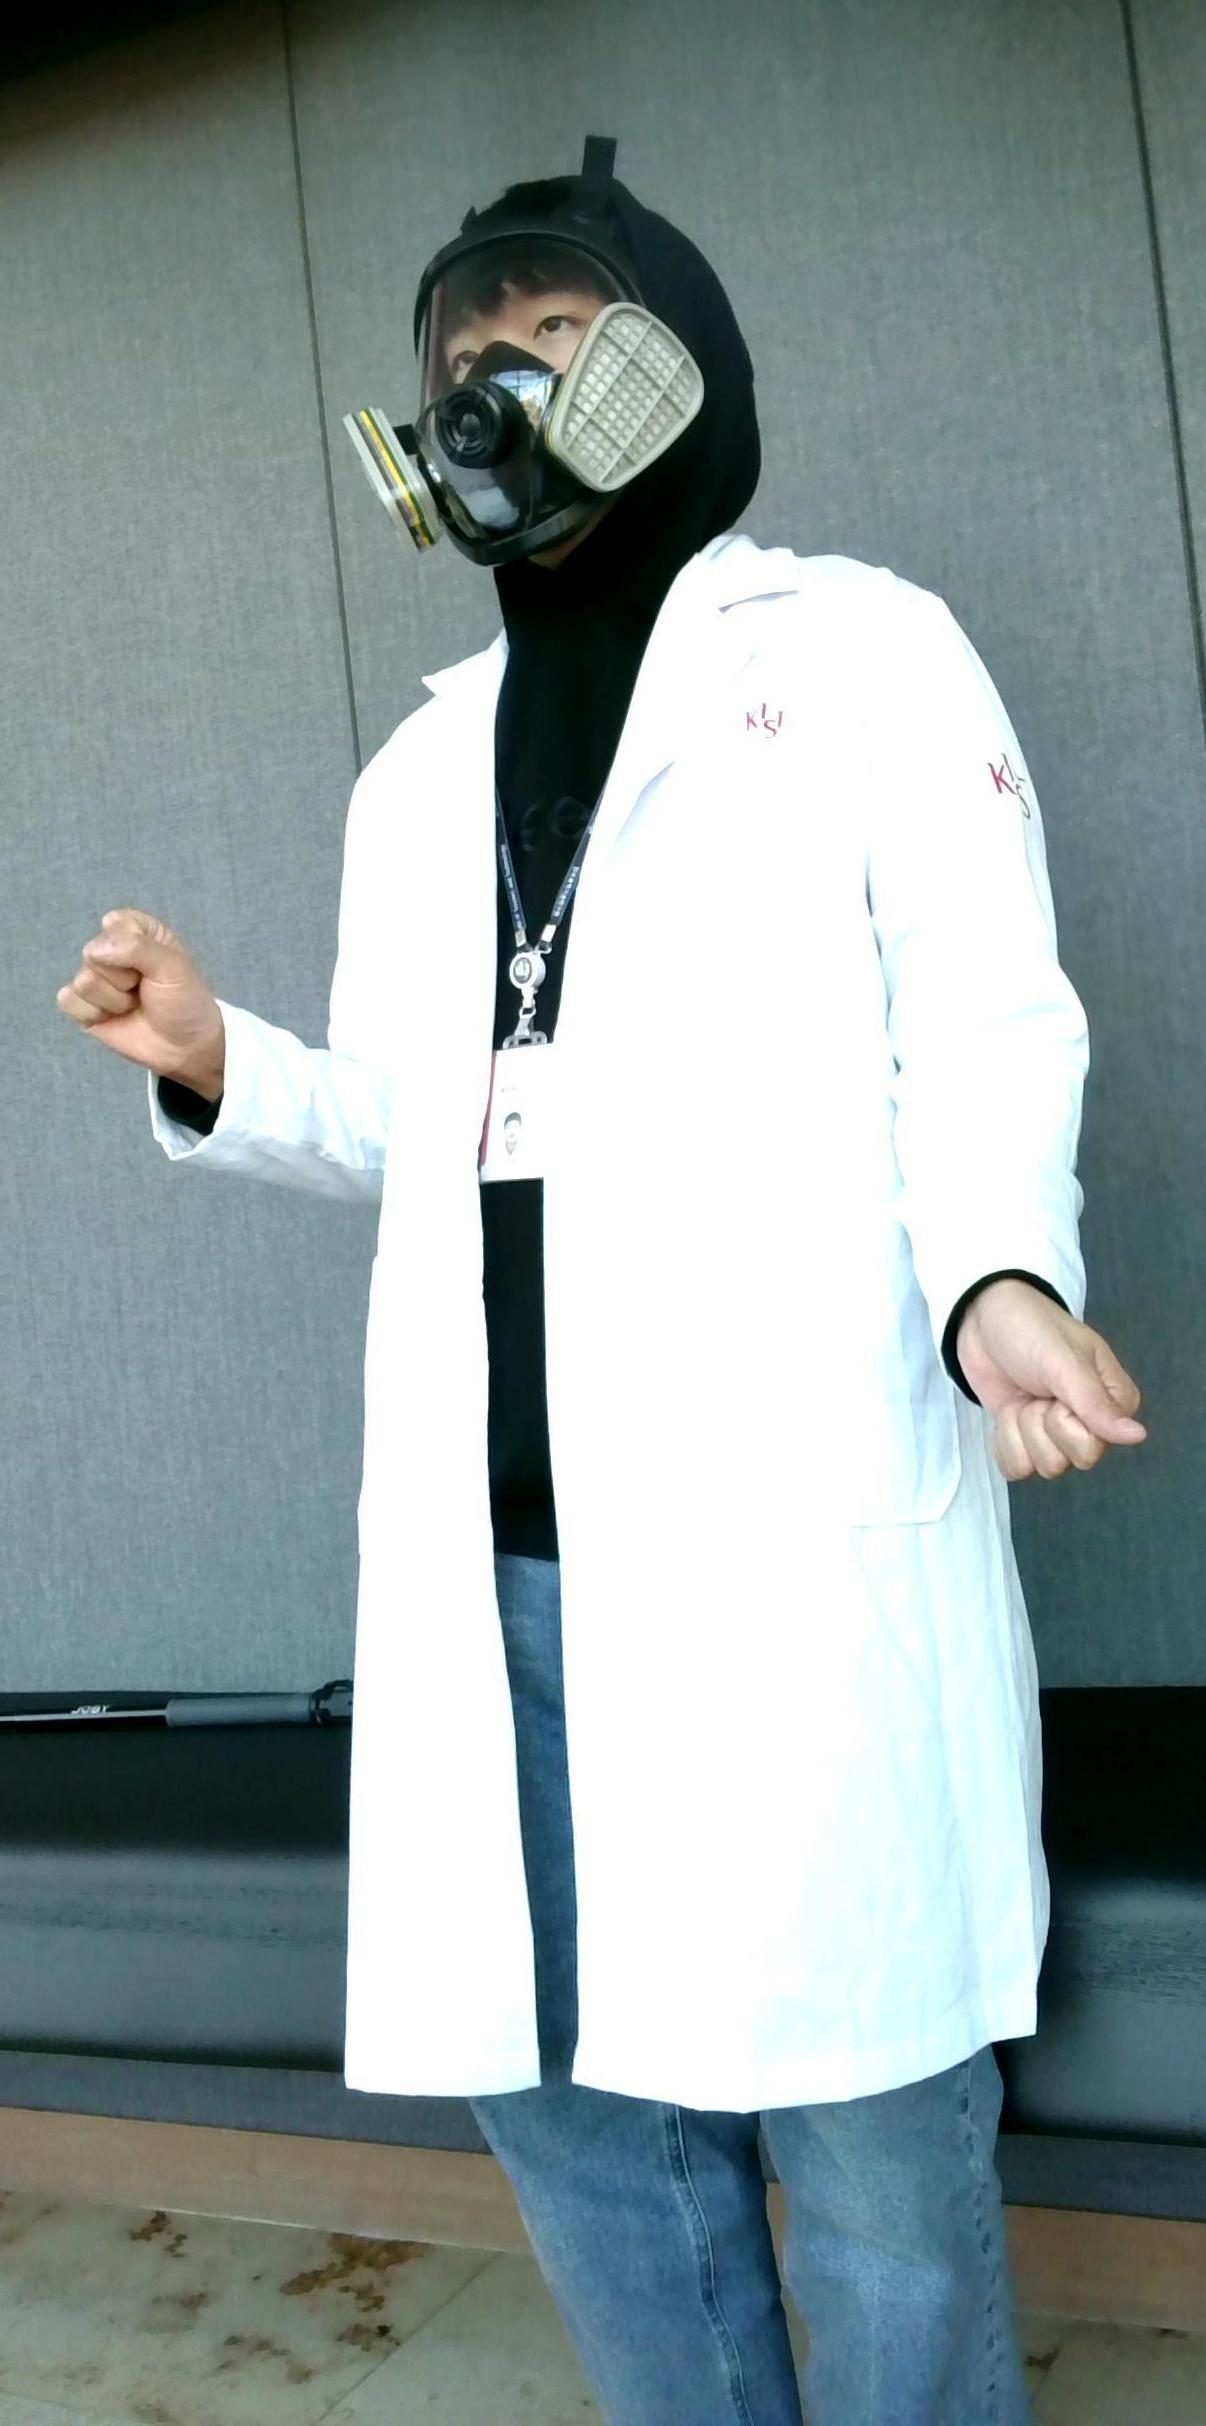lab_coat: (316, 555, 961, 2120)
